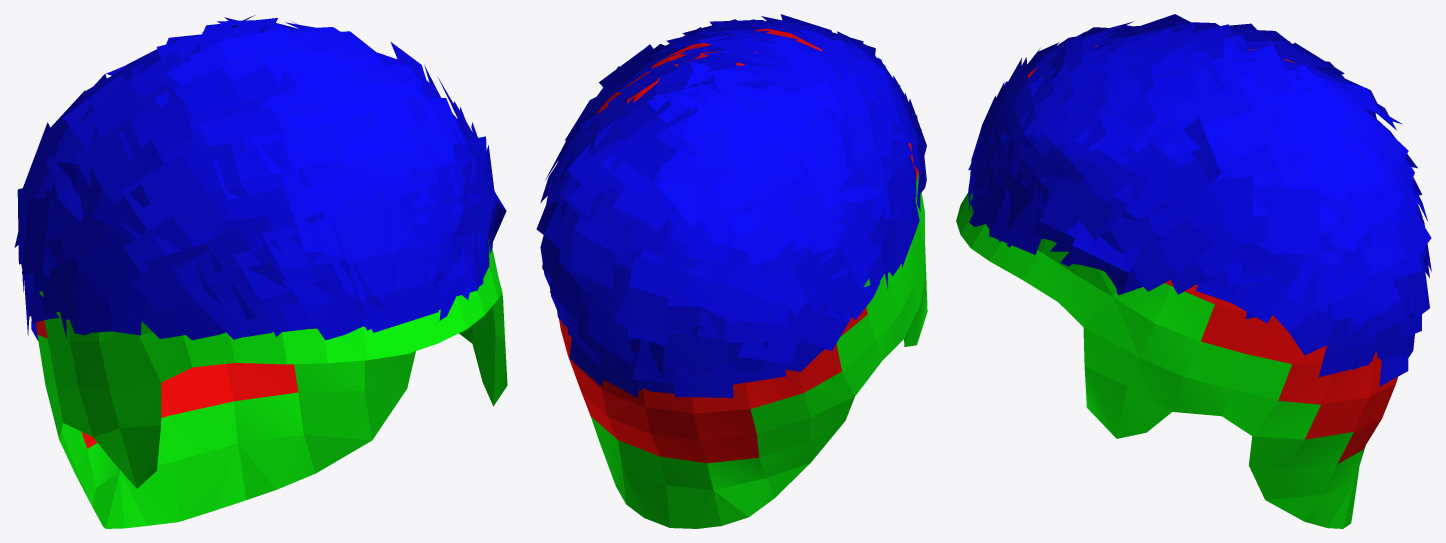
File: hair_003.obj
3 renders of one model, left to right at view 1: azimuth 30°, elevation 25°; view 2: azimuth 150°, elevation 25°; view 3: azimuth 270°, elevation 25°, orthographic. The views are drawn at different scales.
Bounding box in the file's own units: 16.17 × 21.01 × 19.1.
